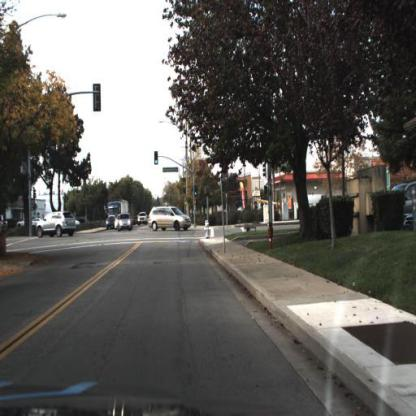car: (146, 204, 192, 235), (37, 209, 77, 239), (119, 211, 136, 235), (136, 208, 151, 228)
trafficLight-Green: (155, 152, 161, 168), (195, 184, 200, 199)
truck: (105, 199, 127, 232)
